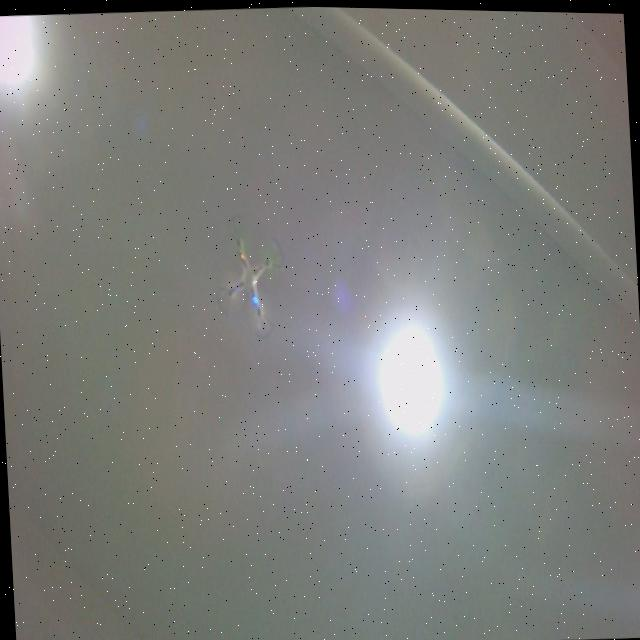drone: (209, 204, 294, 348)
